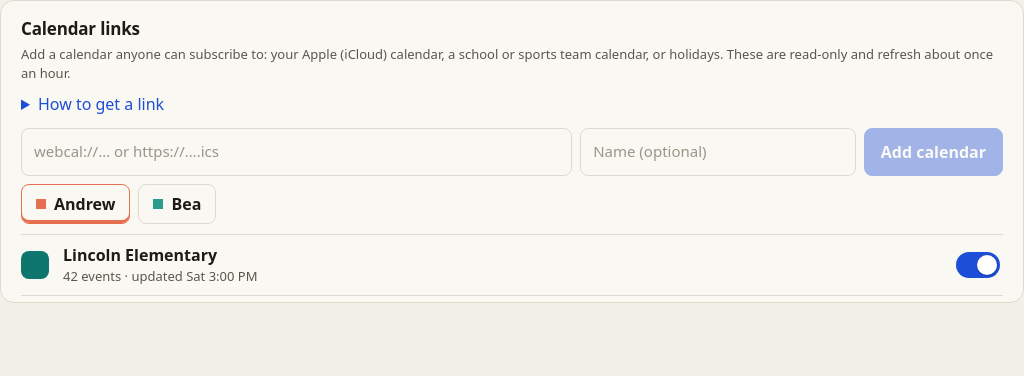
Test: Calendar links › shows why a link failed
The image size is (1024, 376).
Type "https://school.example.org" into the field named "Calendar link" at (297, 152), box [21,128,572,176]
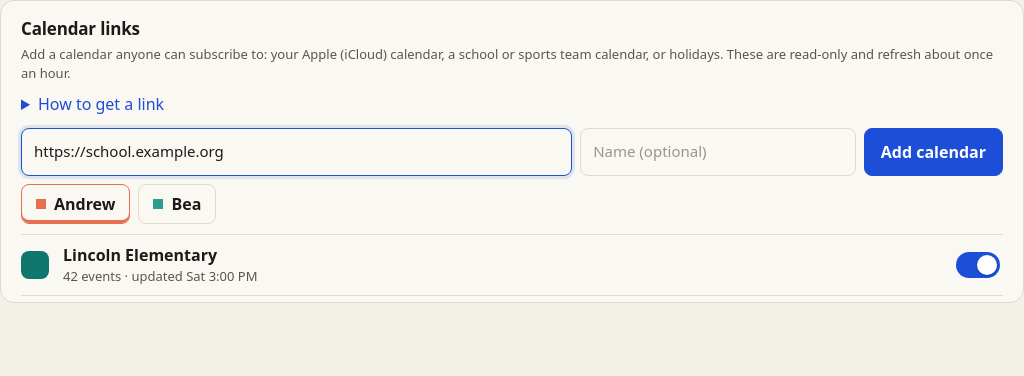
Click the button "Add calendar" at (933, 152), box [864,128,1003,176]
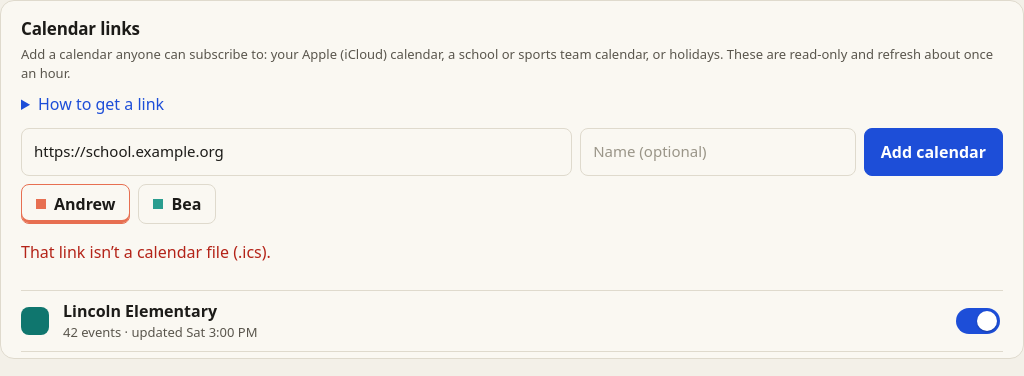
Check: the message shows "isn’t a calendar file", box [21,240,271,262]
